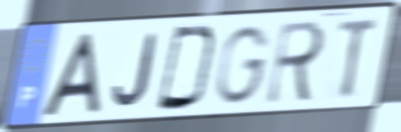A: (38, 30, 103, 120)
D: (154, 24, 221, 113)
G: (213, 23, 273, 107)
J: (110, 32, 160, 110)
R: (263, 17, 329, 107)
T: (336, 15, 381, 102)
